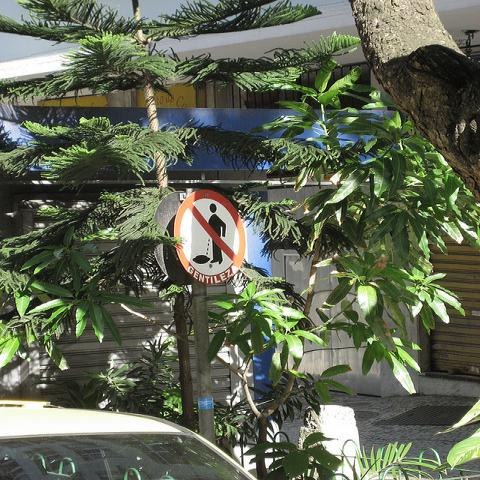car: (0, 406, 262, 479)
